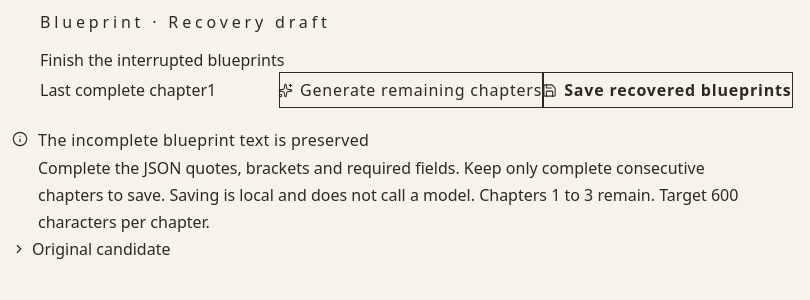
Test: planning recovery editors › 英文界面下恢复稿不合蓝图格式时，按英文说明哪个字段出了什么问题，不带中文诊断前缀（#474）
Click the button "Save recovered blueprints" at coordinates (668, 90), box [543, 72, 792, 108]
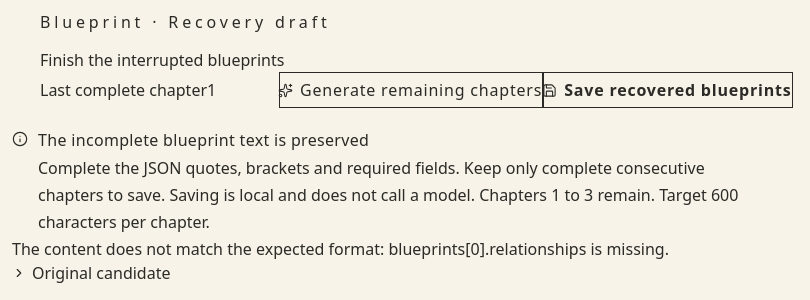
Expected: the 2nd message shows "relationships", [12, 238, 669, 260]
Expected: the 2nd message shows "missing", [12, 238, 669, 260]
